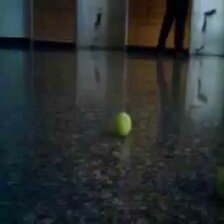tennis: (111, 110, 132, 138)
